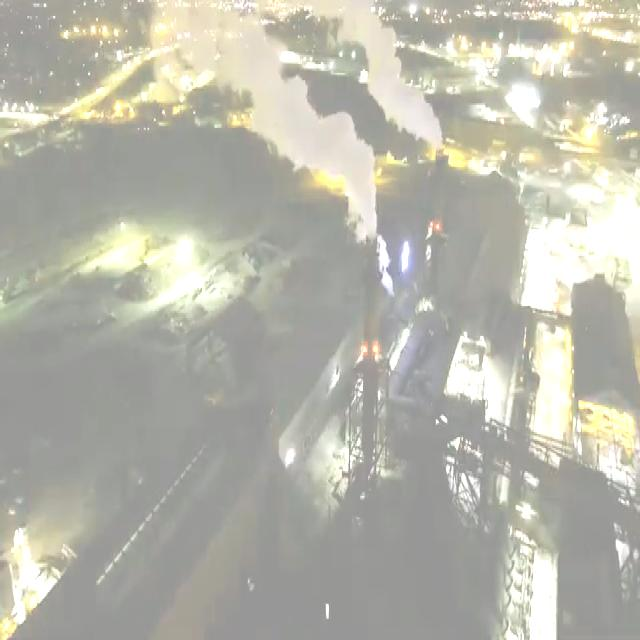smoke: (193, 18, 377, 240), (330, 0, 443, 156)
